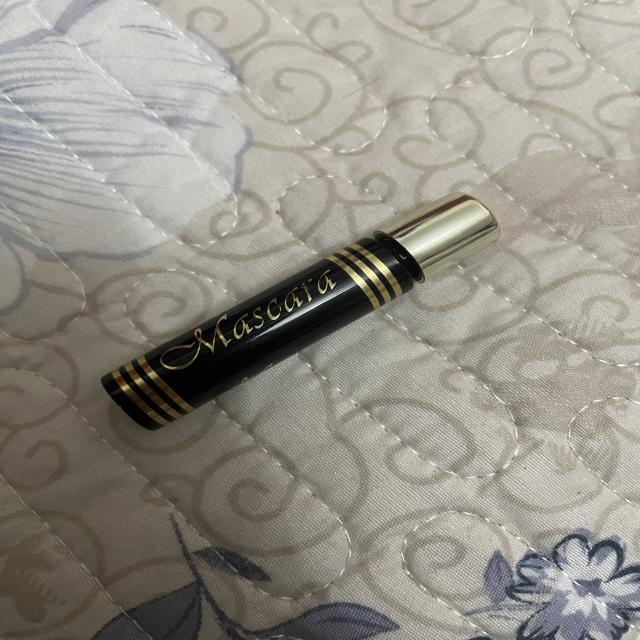mascara: (91, 176, 532, 442)
